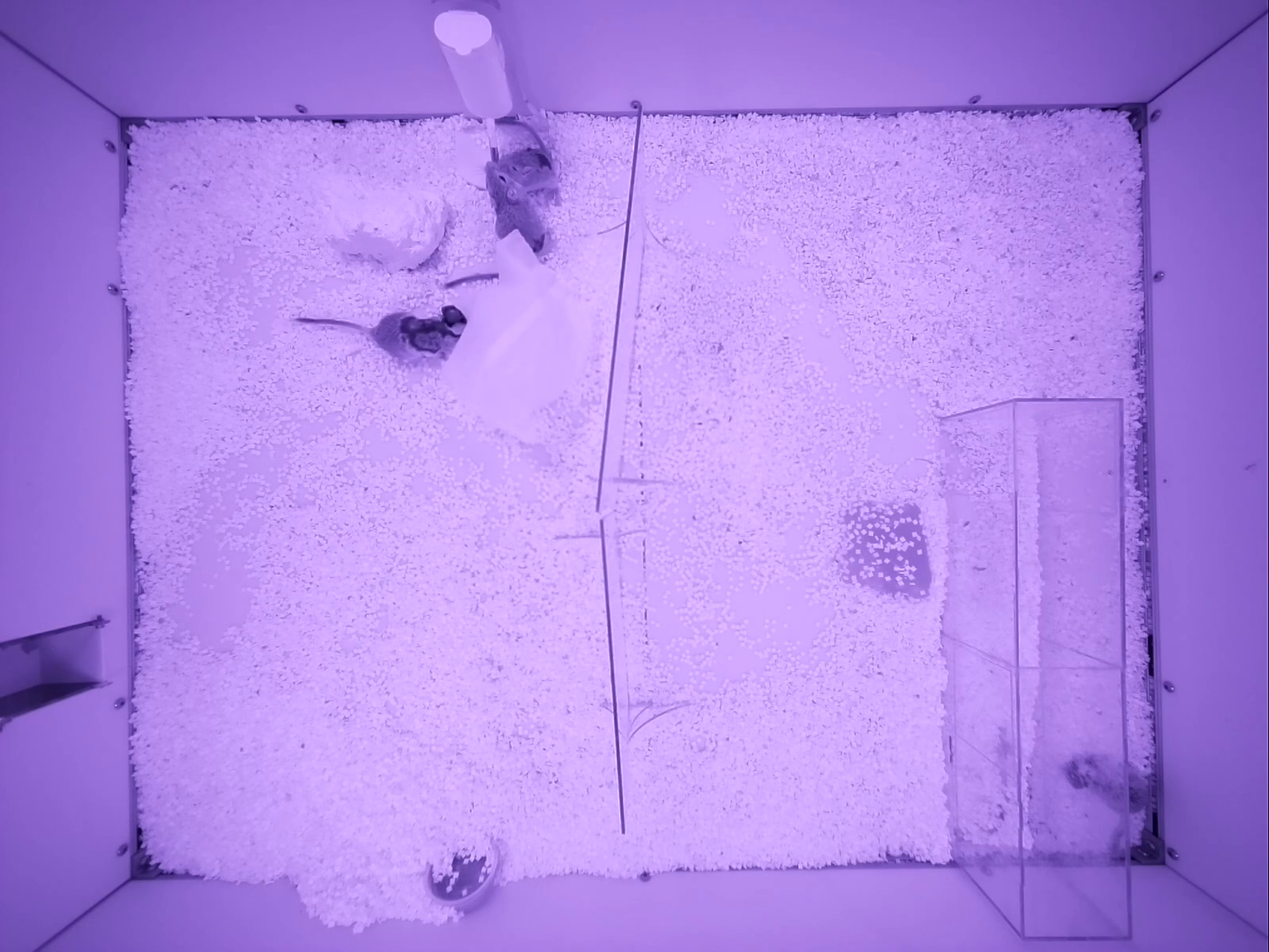adult_back: (297, 305, 466, 361), (1064, 754, 1149, 858), (493, 117, 557, 201), (486, 162, 545, 253)
